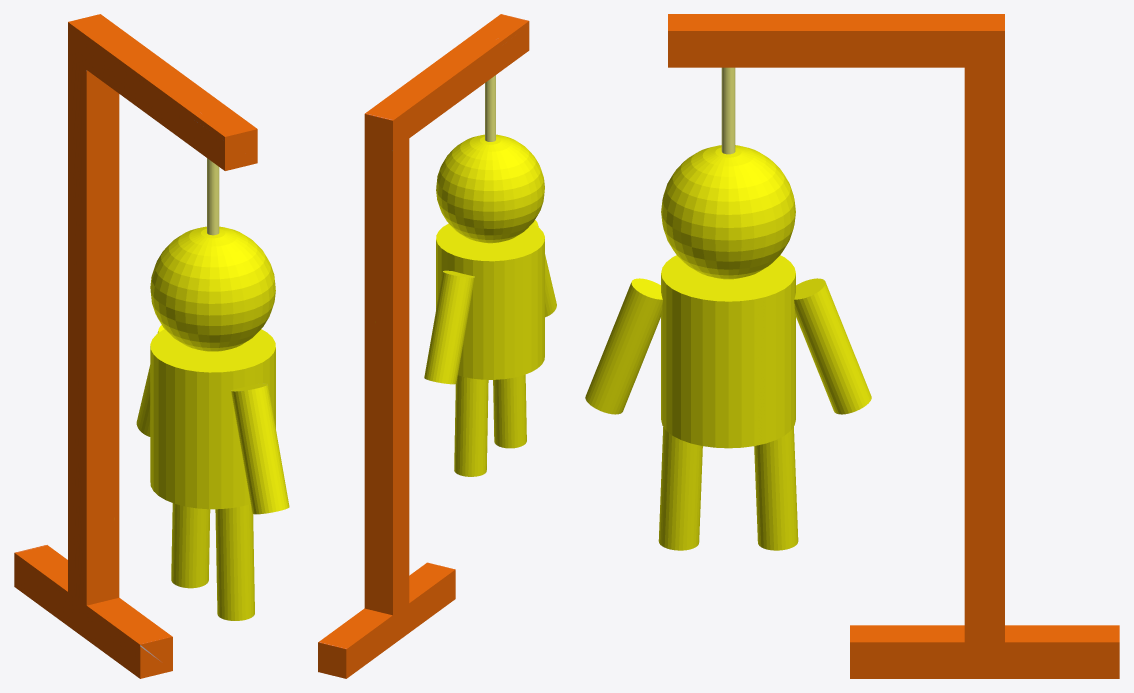
The model's file is HangmanIcon.gltf.
The picture shows the model from 3 angles, left to right: view 1: azimuth 30°, elevation 25°; view 2: azimuth 150°, elevation 25°; view 3: azimuth 270°, elevation 25°; orthographic projection. The views are drawn at different scales.
Visible parts, largest first — view 1: Cube.001, Cylinder, Sphere, Cube, Cube.002, Cylinder.001, Cylinder.002, Cylinder.004, Cylinder.005, Cylinder.003; view 2: Cube.001, Cylinder, Sphere, Cube, Cube.002, Cylinder.003, Cylinder.004, Cylinder.002, Cylinder.005, Cylinder.001; view 3: Cube.001, Cylinder, Cube, Sphere, Cube.002, Cylinder.003, Cylinder.001, Cylinder.004, Cylinder.002, Cylinder.005.
Boxes of the visible parts, <box> form: Cube.001: <box>68,56,119,605</box>; Cylinder: <box>150,329,275,509</box>; Sphere: <box>150,226,275,351</box>; Cube: <box>68,14,257,170</box>; Cube.002: <box>14,545,172,678</box>; Cylinder.001: <box>231,383,289,514</box>; Cylinder.002: <box>215,504,254,620</box>; Cylinder.004: <box>171,503,210,588</box>; Cylinder.005: <box>207,158,219,235</box>; Cylinder.003: <box>136,325,164,436</box>; Cube.001: <box>364,139,409,615</box>; Cylinder: <box>436,223,544,379</box>; Sphere: <box>436,134,544,243</box>; Cube: <box>364,14,529,150</box>; Cube.002: <box>318,562,455,678</box>; Cylinder.003: <box>424,270,474,384</box>; Cylinder.004: <box>454,375,488,476</box>; Cylinder.002: <box>493,374,526,448</box>; Cylinder.005: <box>485,75,495,141</box>; Cylinder.001: <box>532,220,556,317</box>; Cube.001: <box>964,67,1004,642</box>; Cylinder: <box>661,255,795,448</box>; Cube: <box>668,14,1004,67</box>; Sphere: <box>661,145,795,279</box>; Cube.002: <box>850,625,1119,678</box>; Cylinder.003: <box>794,278,871,414</box>; Cylinder.001: <box>585,278,662,414</box>; Cylinder.004: <box>754,427,798,550</box>; Cylinder.002: <box>658,427,702,550</box>; Cylinder.005: <box>721,67,735,154</box>.
Size of the model in its own units: 1 by 5.3 by 3.96.
Materials: 10 (10 with a texture image).
